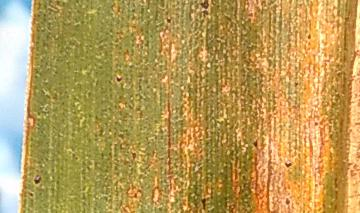tarspot: (196, 195, 210, 211), (111, 72, 126, 84), (32, 171, 42, 188), (281, 194, 294, 207), (196, 1, 217, 9), (198, 8, 211, 19), (281, 159, 293, 170), (250, 137, 260, 150), (164, 14, 173, 26)
